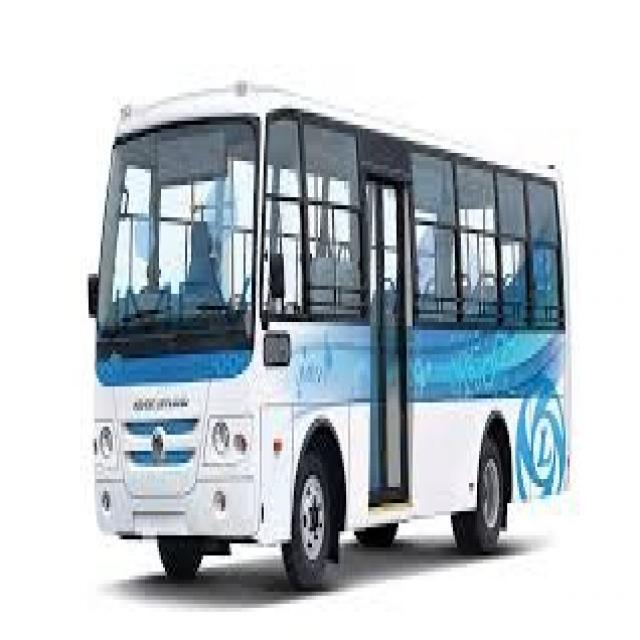bus: (71, 47, 594, 594)
